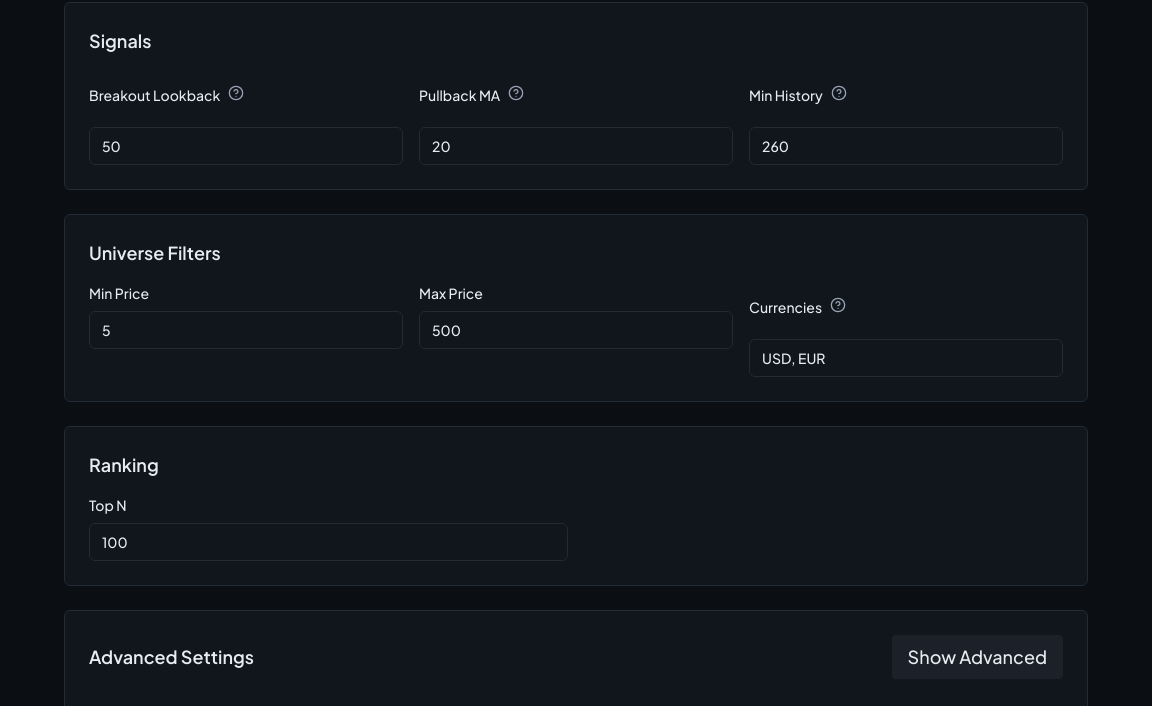
Scenario: Strategy Page › reveals advanced settings when expanded
(page scrolled)
Expected: the text "SMA Fast" is not shown
Click the button "Show Advanced" at {"x": 977, "y": 656}, box left=892, top=634, right=1063, bottom=678
(page scrolled)
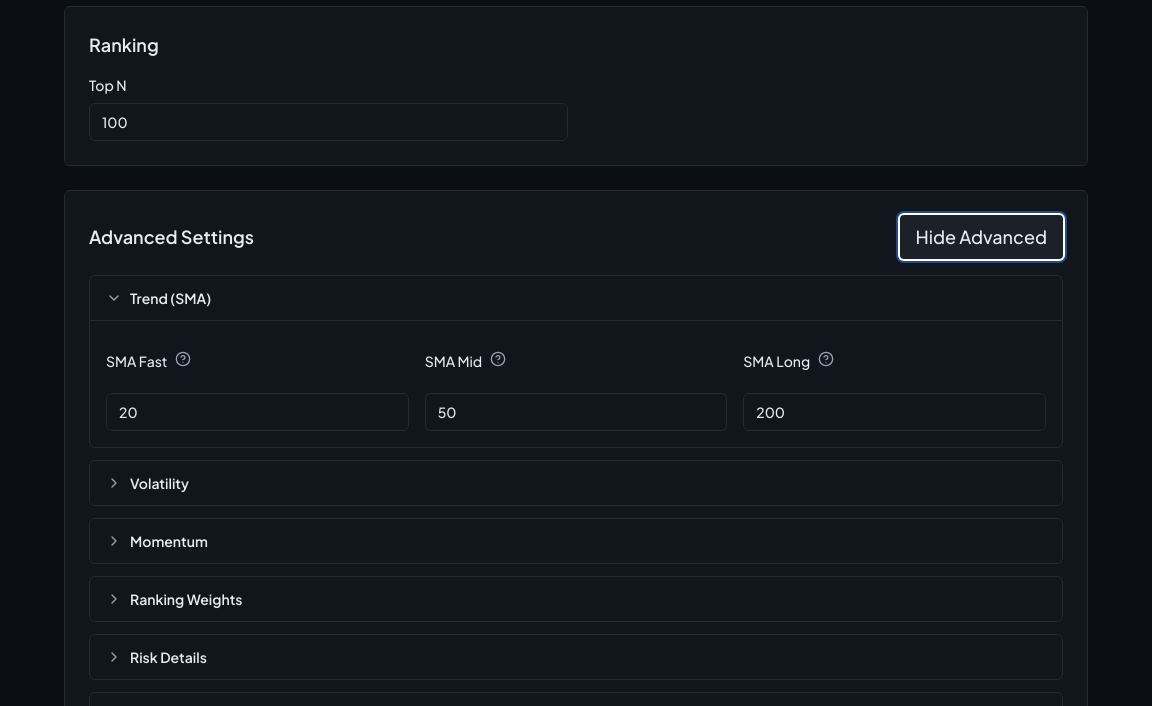
Expected: the text "SMA Fast" is shown, left=106, top=350, right=167, bottom=370
